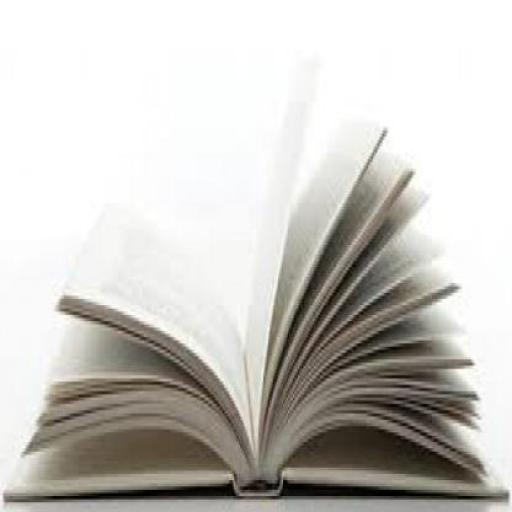paper: (1, 92, 511, 509), (56, 203, 254, 474), (256, 118, 384, 470)
